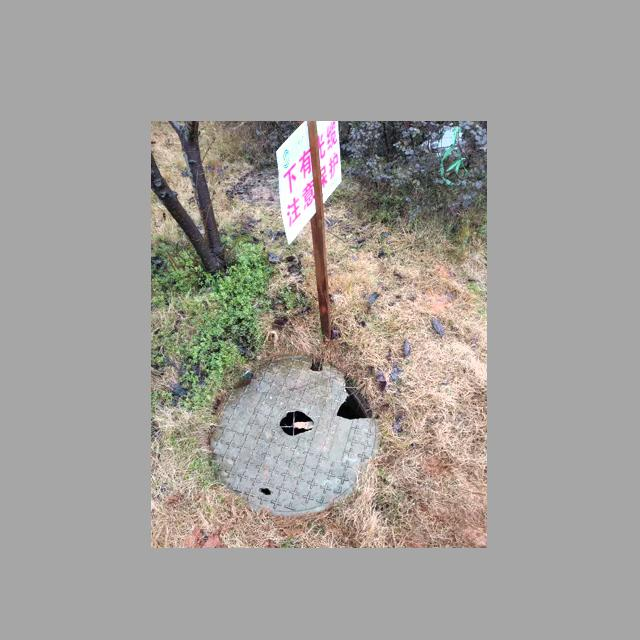broke: (207, 353, 379, 514)
